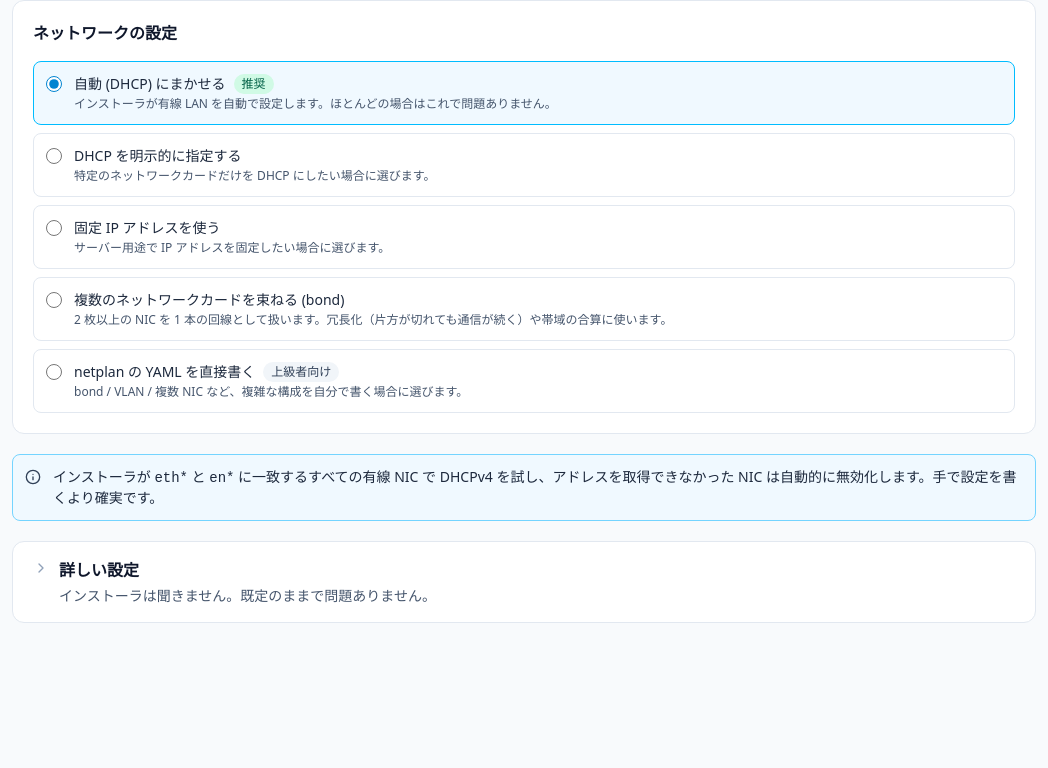
NetworkStep の「詳しい設定」 › raw でないときは、折りたたみを開くと出し方を伝える（空のまま黙らない）
The width and height of the screenshot is (1048, 768).
Click the button "詳しい設定 インストーラは聞きません。既定のままで問題ありません。" at coordinates (99, 570), box [13,542,1035,622]
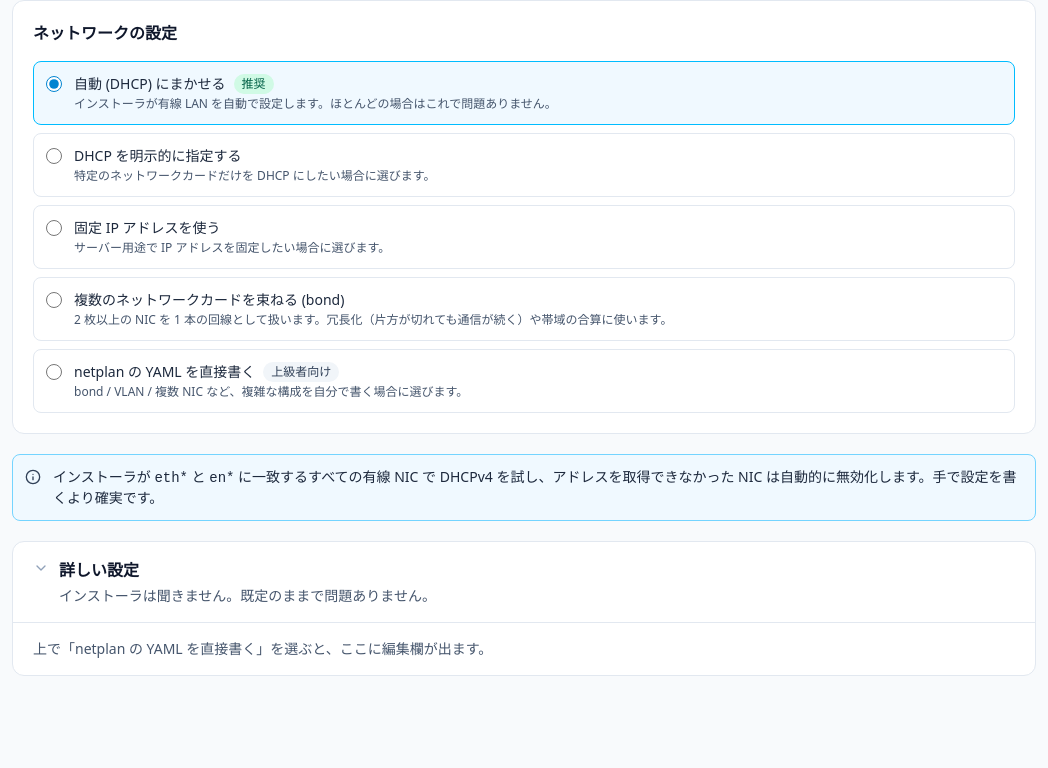
Expected: the text "上で「netplan の YAML を直接書く」を選ぶと、ここに編集欄が出ます。" is shown, [33,639,492,658]
